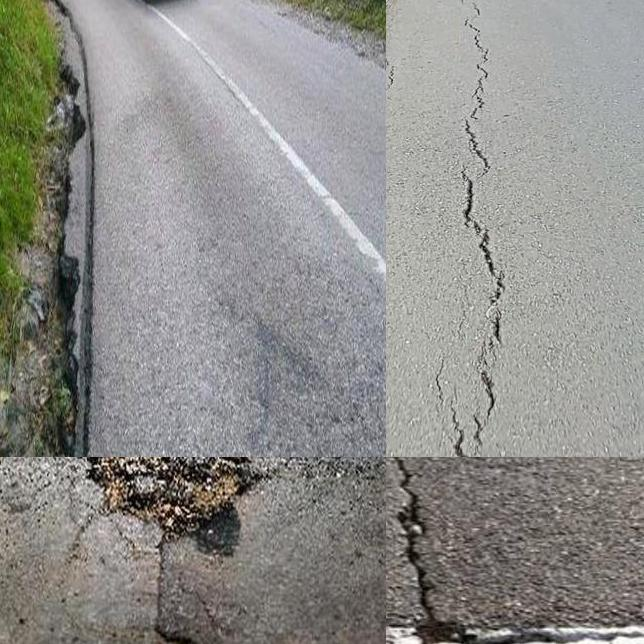Lubang: (105, 457, 273, 551)
Memanjang: (450, 2, 511, 457), (386, 457, 484, 644)
Pinggir: (20, 0, 105, 457)
